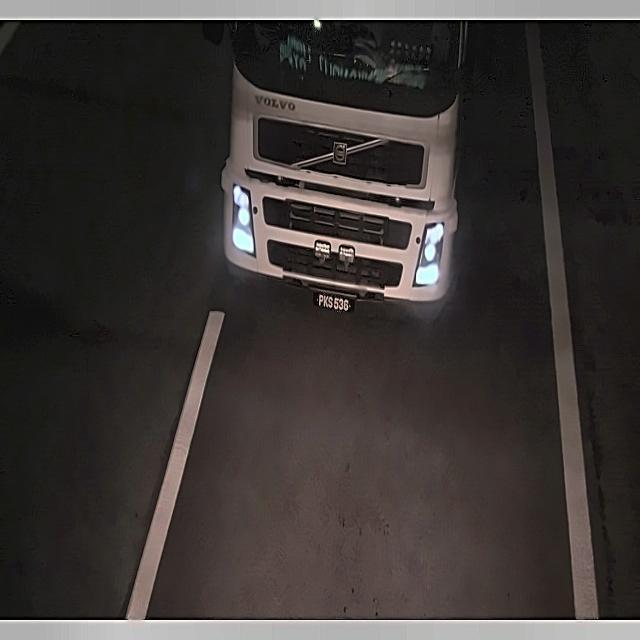car: (308, 283, 356, 322)
